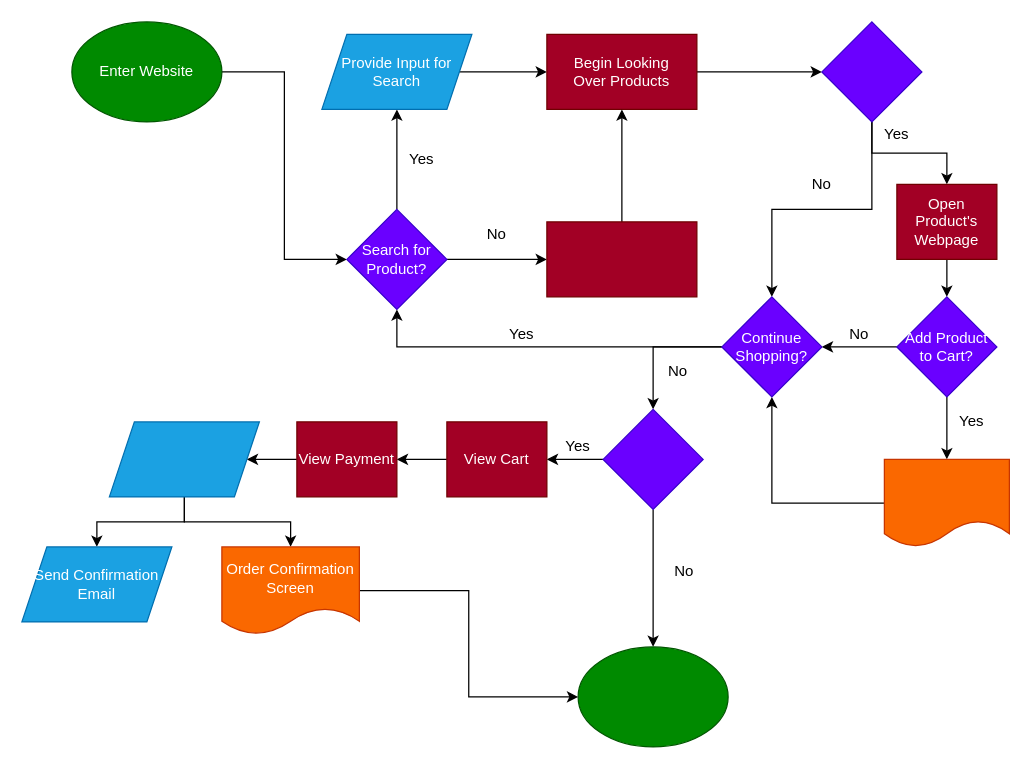
Some shapes in this 1031 by 769 pixel diagram are drawn without their labels. Here are the shapes that lost their labels. From the top down, the centre of each, then its label:
[871,71]: View Specific Product?
[621,259]: Explore Home Page
[183,459]: Input Payment Information
[652,458]: Checkout?
[946,502]: Added to Cart Confirmation
[652,696]: Leave Website
